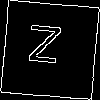Z: (25, 25, 63, 74)
